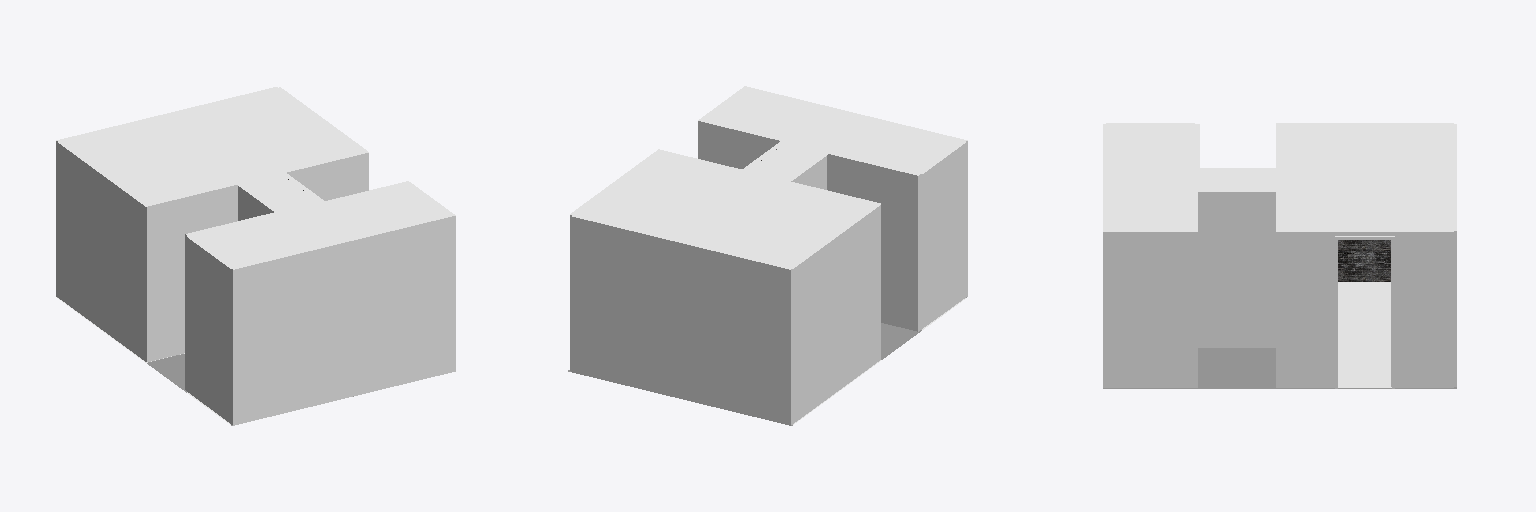
3 renders of one model, left to right at view 1: azimuth 30°, elevation 25°; view 2: azimuth 150°, elevation 25°; view 3: azimuth 270°, elevation 25°, orthographic.
Visible parts, largest first — view 1: wall_7_41, room_13_75, wall_2_11, room_15_79, wall_3_17, wall_6_35, wall_11_65, room_14_77, ground_1, wall_4_23; view 2: wall_1_5, room_13_75, wall_2_11, room_15_79, wall_5_29, wall_6_35, wall_9_53, room_14_77, ground_1, wall_4_23; view 3: wall_12_71, room_13_75, wall_8_47, wall_10_59, room_15_79, room_13_74, ground_1, wall_2_10, room_14_77, Montant_80.
Boxes of the visible parts, x1=… form: wall_7_41: x1=233, y1=216, x2=455, y2=425; room_13_75: x1=58, y1=87, x2=368, y2=206; wall_2_11: x1=56, y1=141, x2=146, y2=361; room_15_79: x1=187, y1=184, x2=447, y2=268; wall_3_17: x1=147, y1=185, x2=237, y2=361; wall_6_35: x1=185, y1=234, x2=232, y2=424; wall_11_65: x1=287, y1=153, x2=368, y2=200; room_14_77: x1=238, y1=174, x2=320, y2=212; ground_1: x1=57, y1=297, x2=353, y2=425; wall_4_23: x1=238, y1=186, x2=273, y2=220; wall_1_5: x1=571, y1=216, x2=790, y2=425; room_13_75: x1=571, y1=149, x2=880, y2=268; wall_2_11: x1=791, y1=205, x2=880, y2=424; room_15_79: x1=702, y1=87, x2=965, y2=173; wall_5_29: x1=827, y1=154, x2=917, y2=331; wall_6_35: x1=918, y1=141, x2=967, y2=331; wall_9_53: x1=698, y1=121, x2=779, y2=168; room_14_77: x1=748, y1=141, x2=829, y2=180; ground_1: x1=568, y1=297, x2=966, y2=425; wall_4_23: x1=791, y1=156, x2=826, y2=189; wall_12_71: x1=1276, y1=232, x2=1453, y2=387; room_13_75: x1=1276, y1=123, x2=1453, y2=231; wall_8_47: x1=1103, y1=232, x2=1197, y2=387; wall_10_59: x1=1198, y1=192, x2=1275, y2=347; room_15_79: x1=1106, y1=123, x2=1194, y2=231; room_13_74: x1=1338, y1=282, x2=1391, y2=387; ground_1: x1=1103, y1=348, x2=1456, y2=388; wall_2_10: x1=1338, y1=240, x2=1390, y2=281; room_14_77: x1=1195, y1=168, x2=1275, y2=188; Montant_80: x1=1335, y1=236, x2=1394, y2=388.
Size of the model in its own units: 301 by 200 by 411.
10 materials, 2 textured.